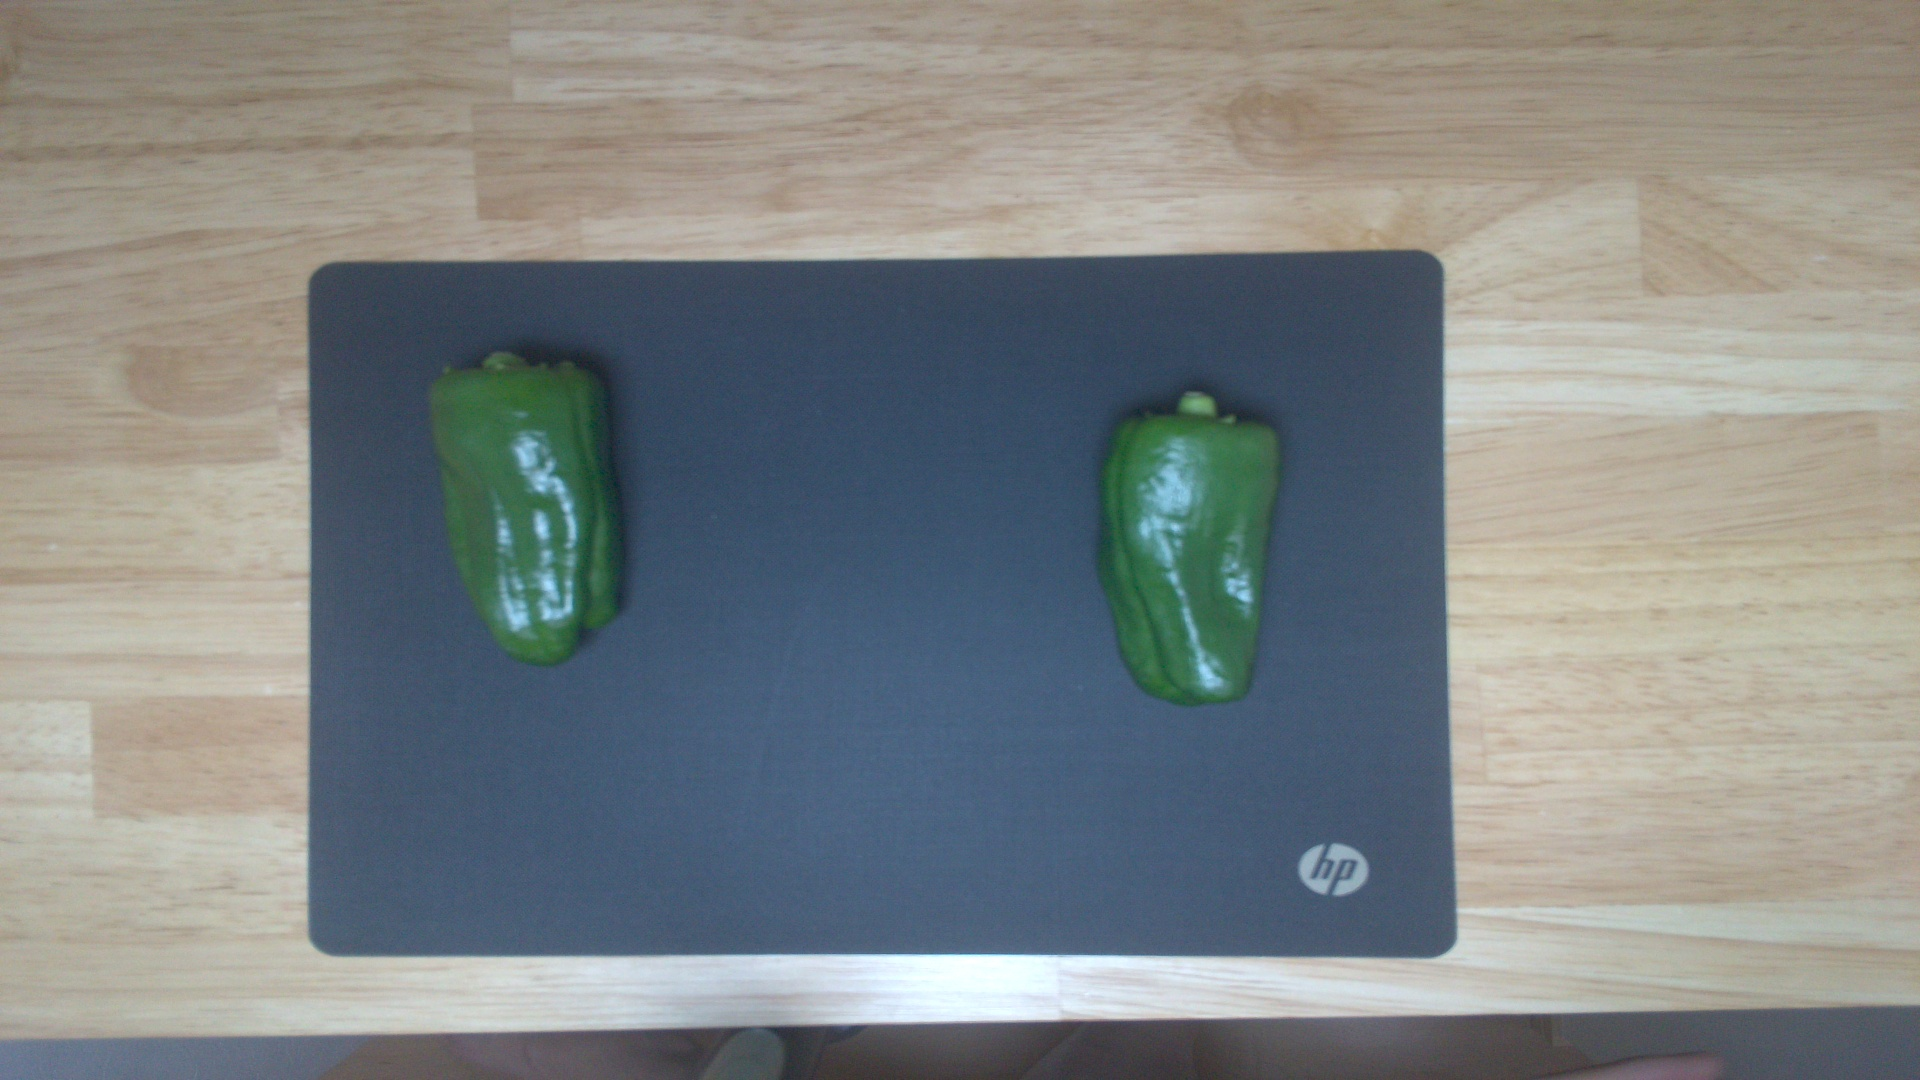Piman: (423, 349, 628, 667), (1095, 385, 1288, 707)
